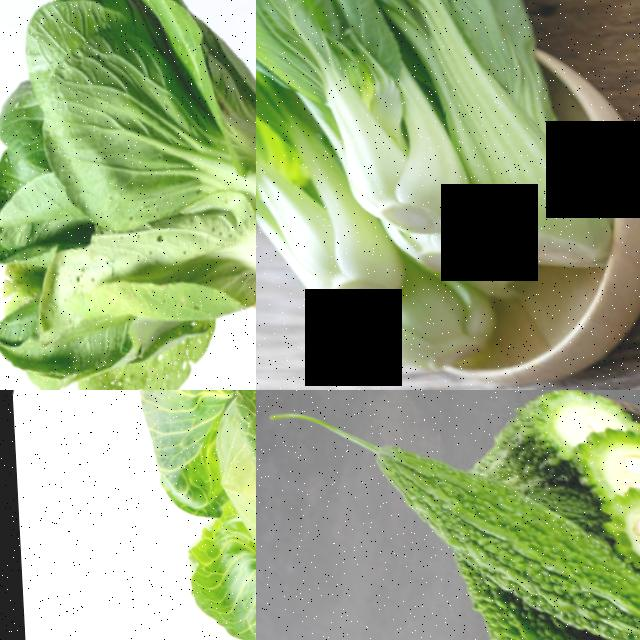bitter gourd: (366, 450, 640, 629), (477, 390, 583, 493), (448, 593, 637, 640), (583, 408, 640, 490), (604, 480, 640, 570)
bok choy: (0, 0, 256, 390), (271, 33, 485, 228), (256, 61, 387, 293), (364, 0, 583, 108)
cabbage: (0, 390, 256, 640)
